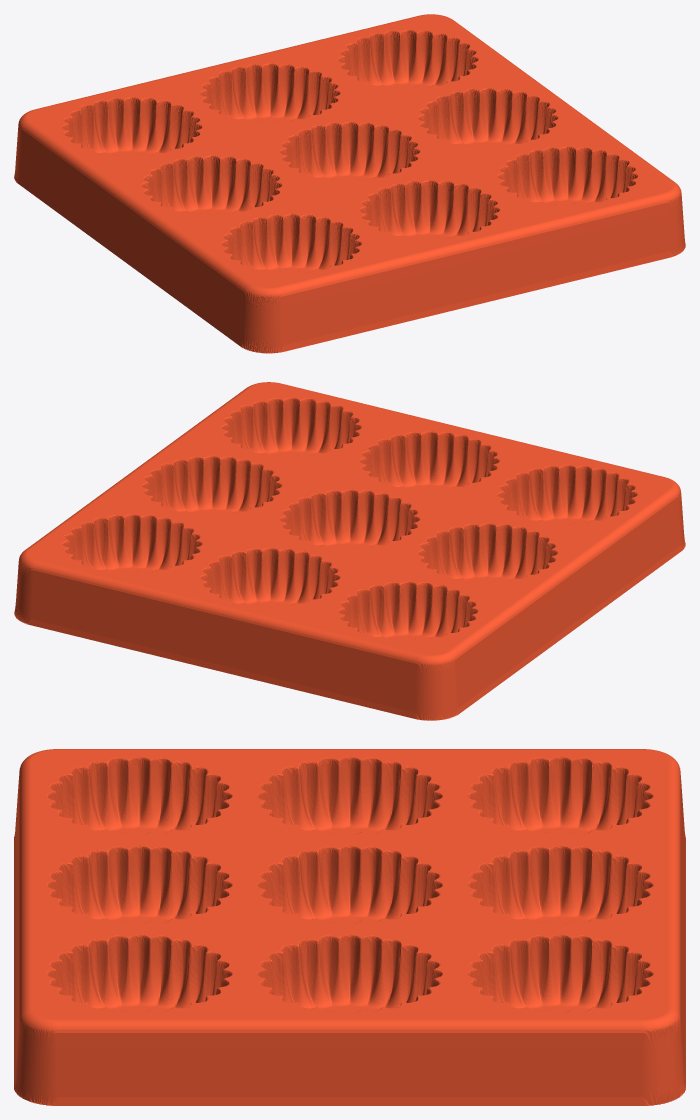
The model's file is mold.glb.
3 views of the same model, one above another, from view 1: azimuth 30°, elevation 25°; view 2: azimuth 150°, elevation 25°; view 3: azimuth 270°, elevation 25° (orthographic). The views are drawn at different scales.
Visible parts, largest first — view 1: geometry_0; view 2: geometry_0; view 3: geometry_0.
Boxes of the visible parts, x1,y1,x2,y2 form: geometry_0: (14, 14, 685, 353); geometry_0: (14, 382, 685, 720); geometry_0: (14, 749, 685, 1105).
Size of the model in its own units: 0.1402 by 0.0182 by 0.1402.
